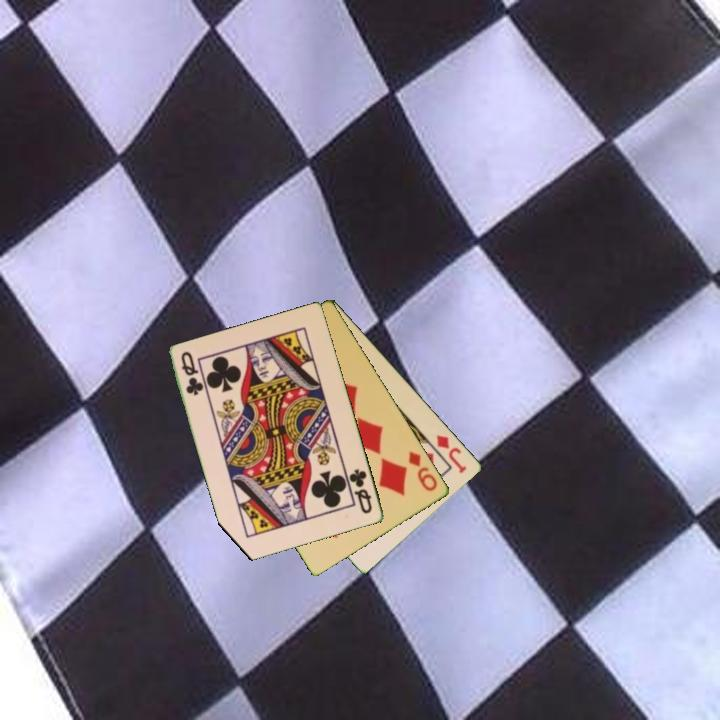9d: (405, 447, 441, 494)
Jd: (433, 431, 470, 476)
Qc: (346, 465, 375, 517), (178, 348, 206, 399)
